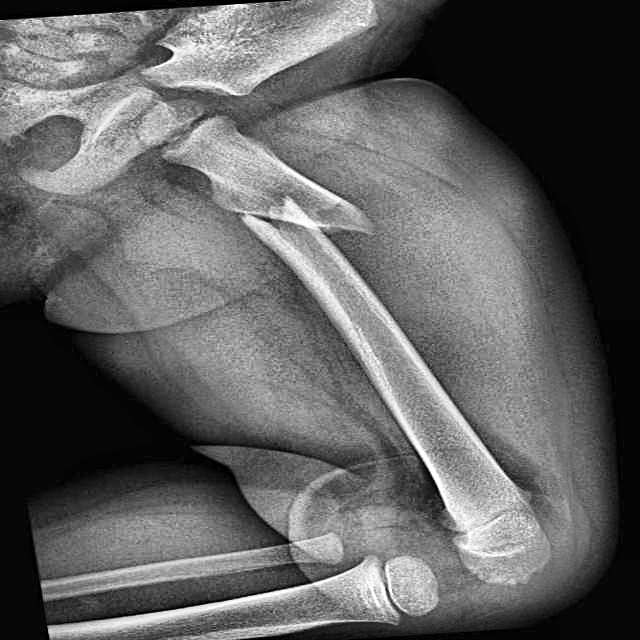Oblique: (207, 161, 393, 256)
